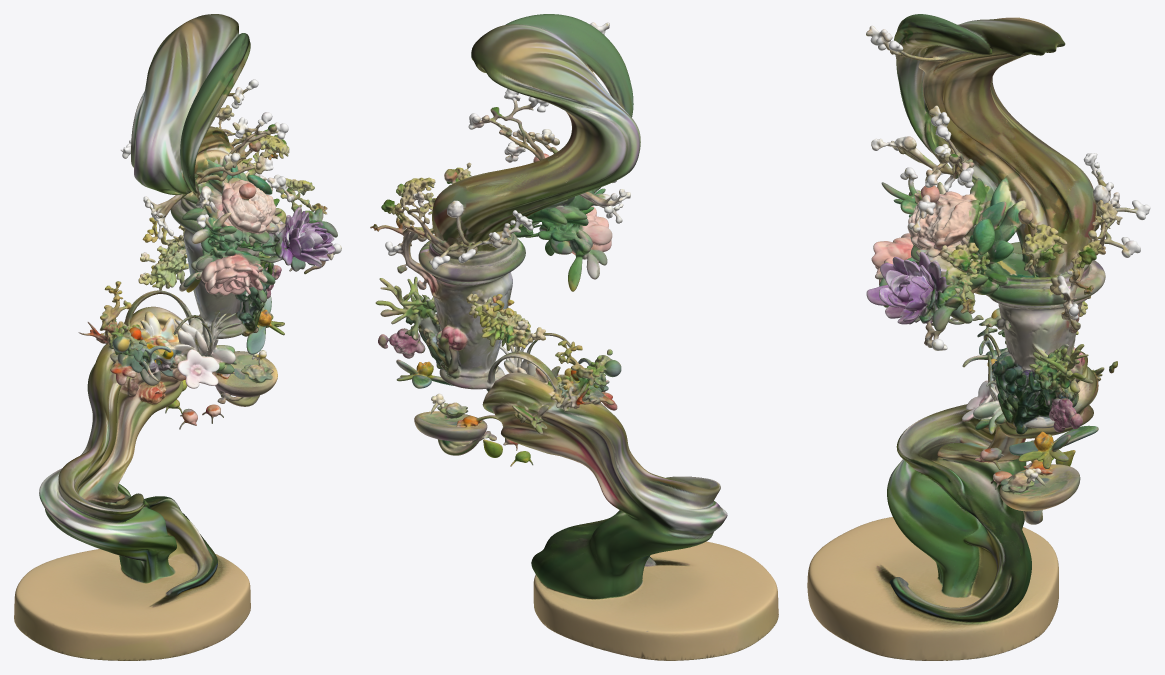
Rendered from Meshy_AI_112_0426125752_texture-v2.glb.
3 renders of one model, left to right at view 1: azimuth 30°, elevation 25°; view 2: azimuth 150°, elevation 25°; view 3: azimuth 270°, elevation 25°, orthographic. The views are drawn at different scales.
Visible parts, largest first — view 1: Mesh_0; view 2: Mesh_0; view 3: Mesh_0.
Part boxes in pixels (x1,y1,x2,y2): Mesh_0: [14, 14, 341, 660]; Mesh_0: [370, 14, 778, 660]; Mesh_0: [807, 14, 1150, 660].
Bounding box in the file's own units: 0.5959 × 1 × 0.4814.
Materials: 1 (1 with a texture image).
